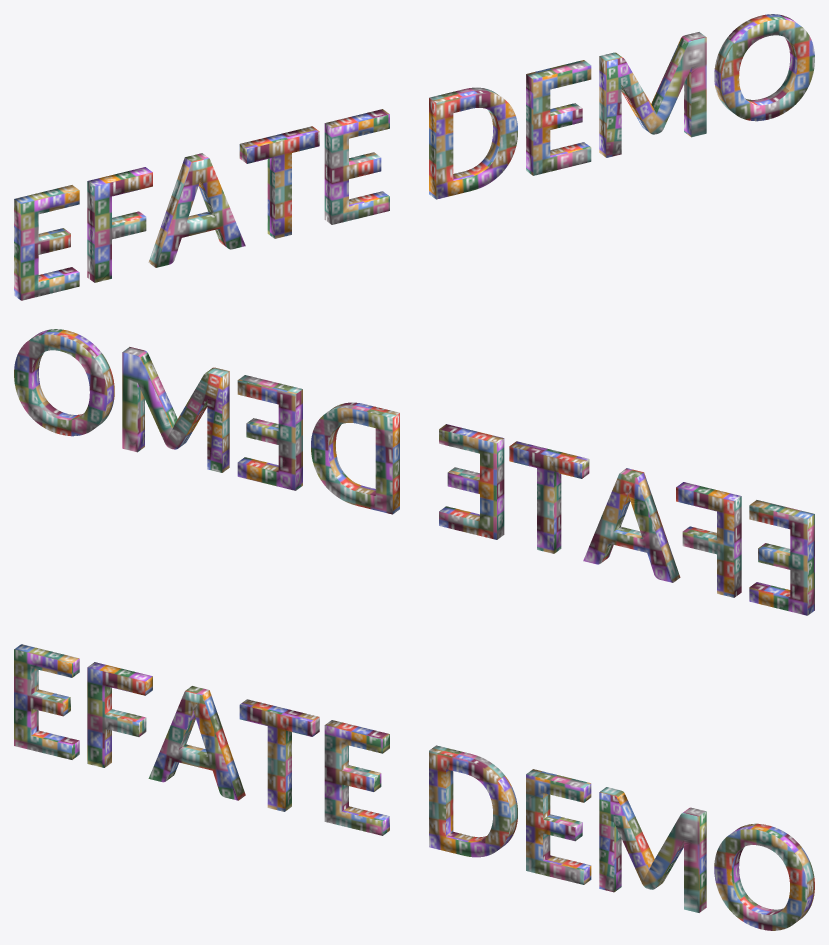
Rendered from efate_demo.dae.
The picture shows the model from 3 angles, top to bottom: view 1: azimuth 30°, elevation 25°; view 2: azimuth 150°, elevation 25°; view 3: azimuth 330°, elevation 25°; orthographic projection.
Parts seen in each view (by area): view 1: text3-0; view 2: text3-0; view 3: text3-0.
Boxes of the visible parts, x1,y1,x2,y2 form: text3-0: (14,14,814,300); text3-0: (14,329,814,615); text3-0: (14,644,814,930).
Bounding box in the file's own units: 12.45 × 1.48 × 0.2.
